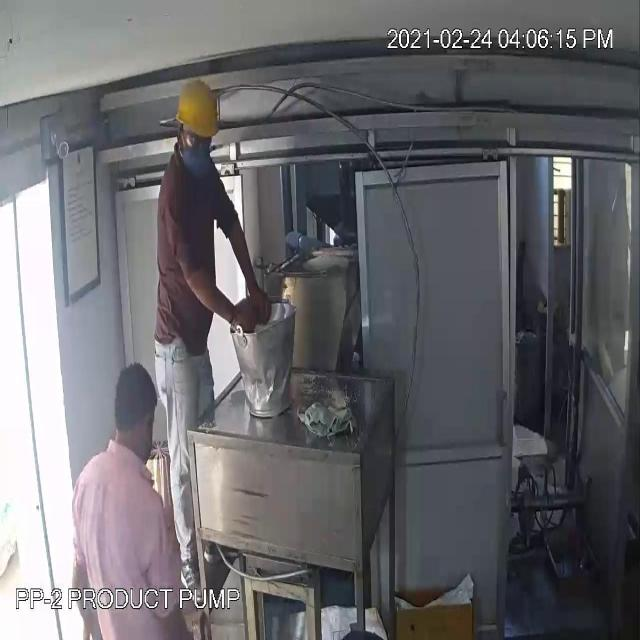helmet: (173, 67, 225, 173)
